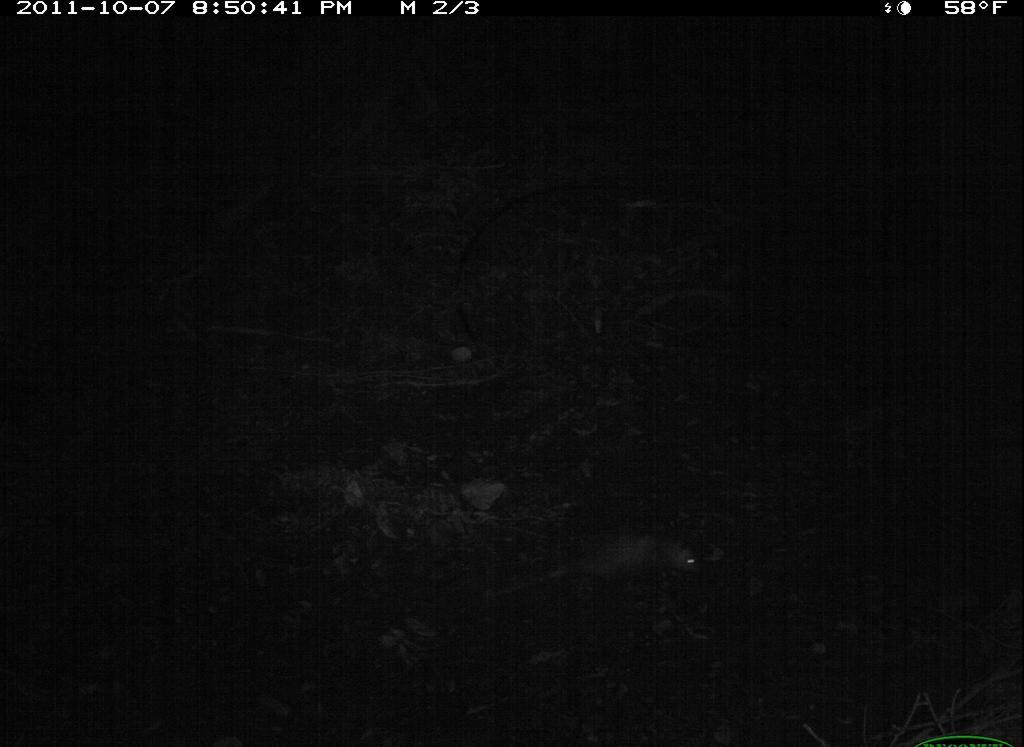opossum: (500, 521, 717, 612)
